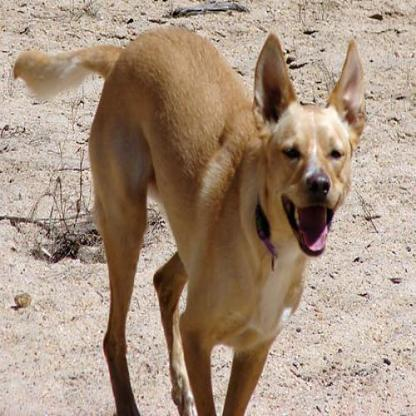kelpie: (13, 22, 368, 414)
